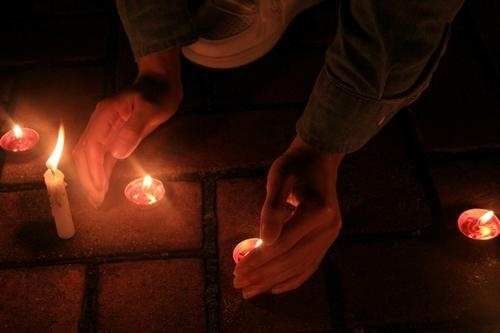fire: (45, 121, 67, 173), (9, 119, 25, 138), (139, 171, 155, 189)
